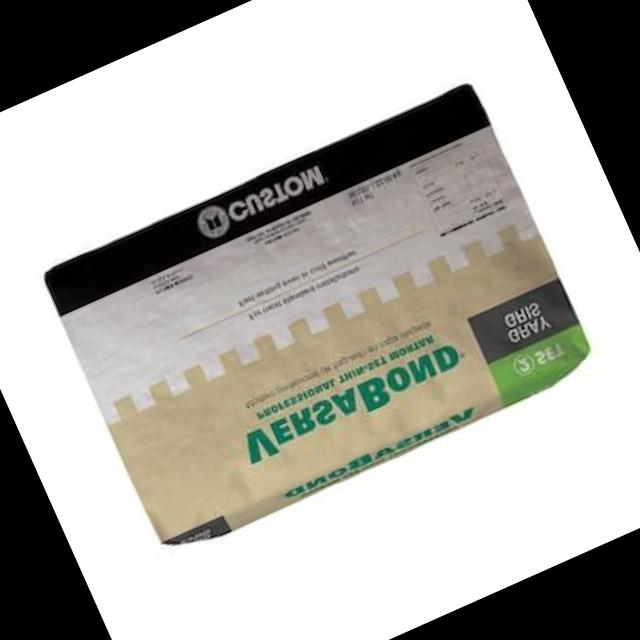KantongSemen: (36, 79, 602, 564)
